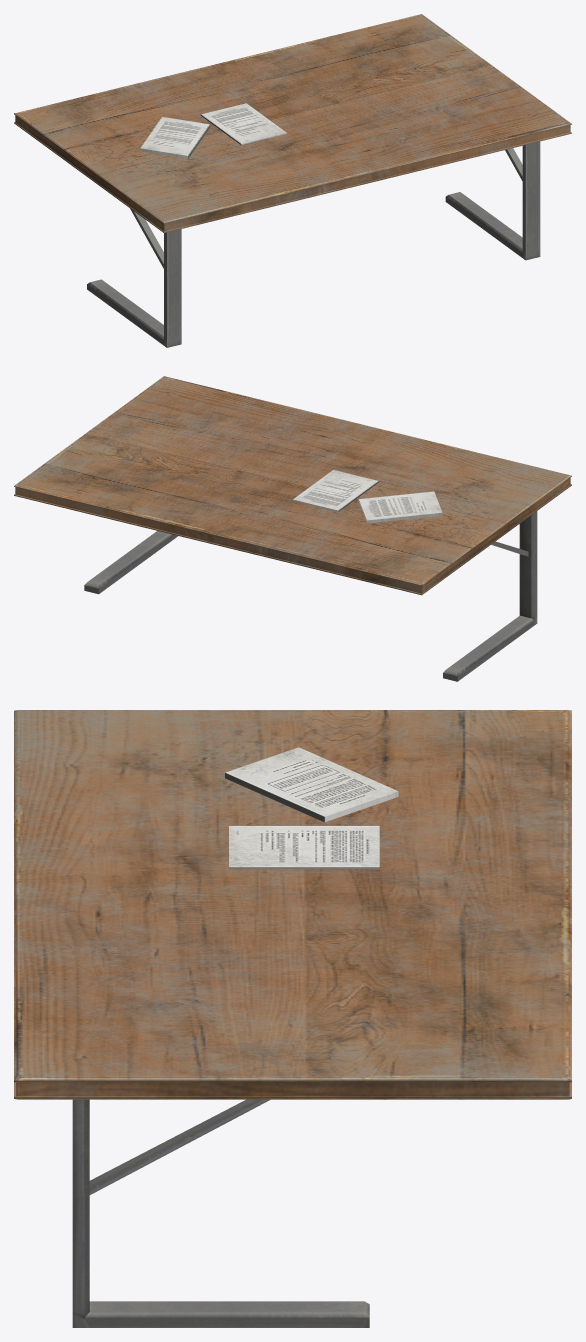
The model's file is Table.obj.
3 renders of one model, top to bottom at view 1: azimuth 30°, elevation 25°; view 2: azimuth 150°, elevation 25°; view 3: azimuth 270°, elevation 25°, orthographic. The views are drawn at different scales.
Visible parts, largest first — view 1: Cube; view 2: Cube; view 3: Cube.
Part boxes in pixels (x1=…): Cube: x1=14, y1=14, x2=571, y2=347; Cube: x1=14, y1=376, x2=571, y2=681; Cube: x1=14, y1=710, x2=571, y2=1327.
Size of the model in its own units: 3.14 by 1.08 by 2.
